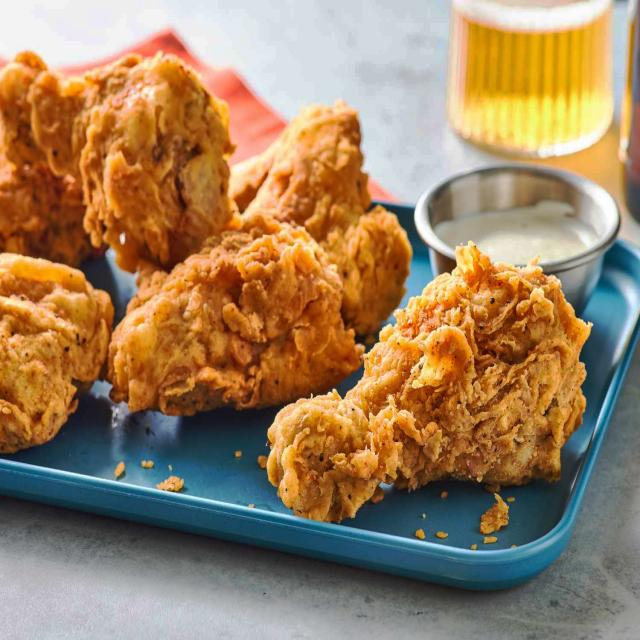fried_chicken: (269, 242, 593, 523), (2, 50, 236, 271), (110, 214, 363, 416), (237, 106, 412, 336), (0, 252, 114, 452)
